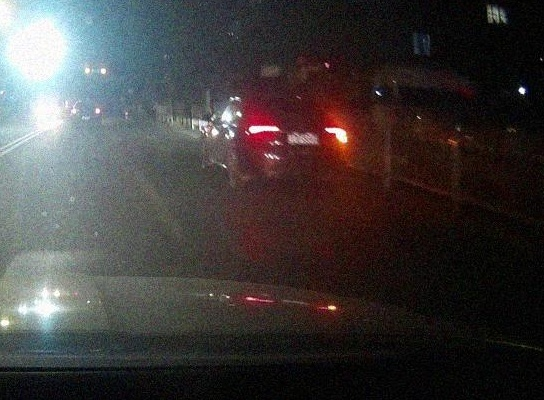L_light: (248, 125, 279, 133)
R_light: (325, 128, 347, 143)
T_light: (285, 108, 301, 111)
night-right: (244, 101, 348, 193)
